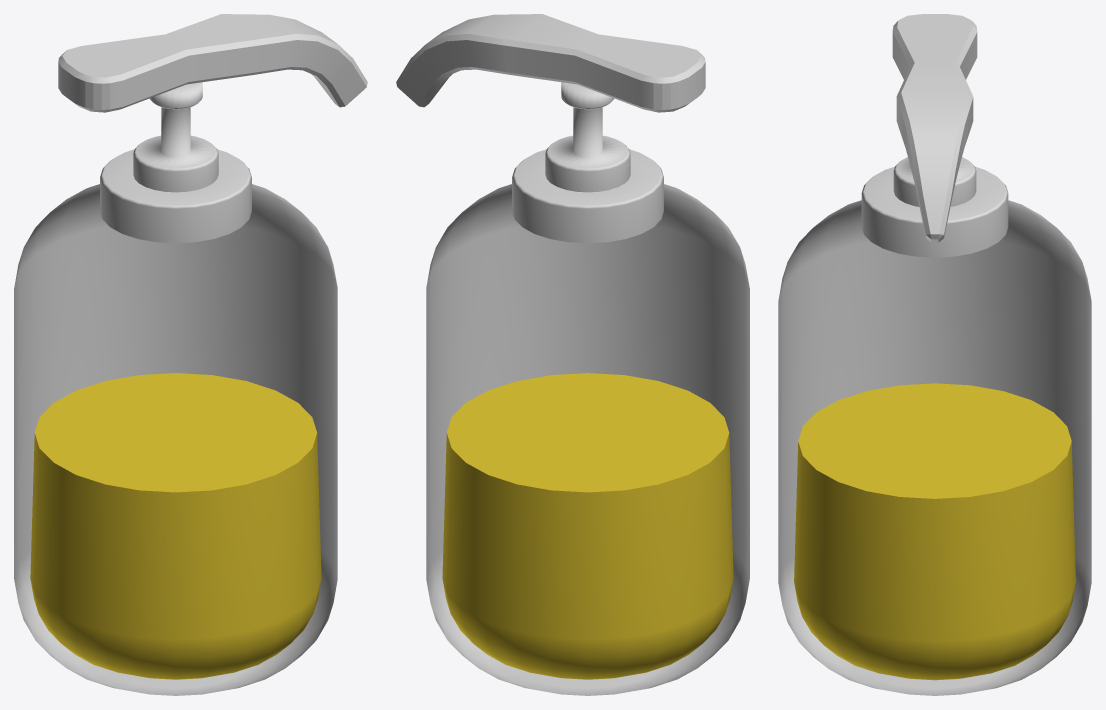
Rendered from Mayonesa.glb.
The picture shows the model from 3 angles, left to right: view 1: azimuth 30°, elevation 25°; view 2: azimuth 150°, elevation 25°; view 3: azimuth 270°, elevation 25°; orthographic projection. The views are drawn at different scales.
Visible parts, largest first — view 1: Plane; view 2: Plane; view 3: Plane.
Boxes of the visible parts, x1,y1,x2,y2 form: Plane: (14,14,367,695); Plane: (396,14,749,695); Plane: (778,14,1091,695).
Size of the model in its own units: 0.8907 by 1.59 by 0.7571.
